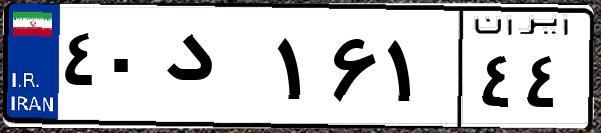0: (110, 28, 158, 98)
1: (270, 28, 330, 110), (385, 28, 445, 110)
4: (57, 26, 110, 100), (475, 38, 525, 113), (525, 38, 570, 115)
6: (330, 28, 385, 110)
د: (158, 20, 270, 120)
